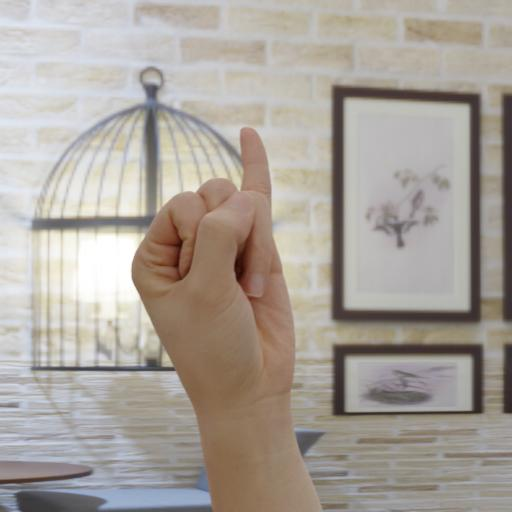I: (109, 91, 400, 412)
